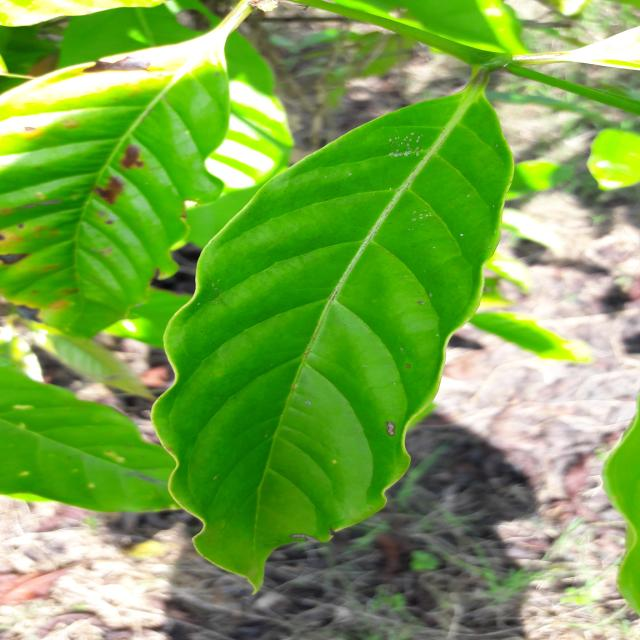Sanas: (147, 83, 514, 593)
